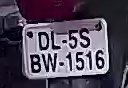1: (65, 53, 75, 74), (85, 51, 93, 71)
5: (74, 51, 86, 74), (68, 28, 80, 50)
6: (96, 50, 106, 71)
B: (29, 51, 43, 76)
D: (36, 31, 50, 52)
L: (48, 30, 61, 52)
S: (79, 27, 92, 48)
W: (39, 49, 59, 74)
